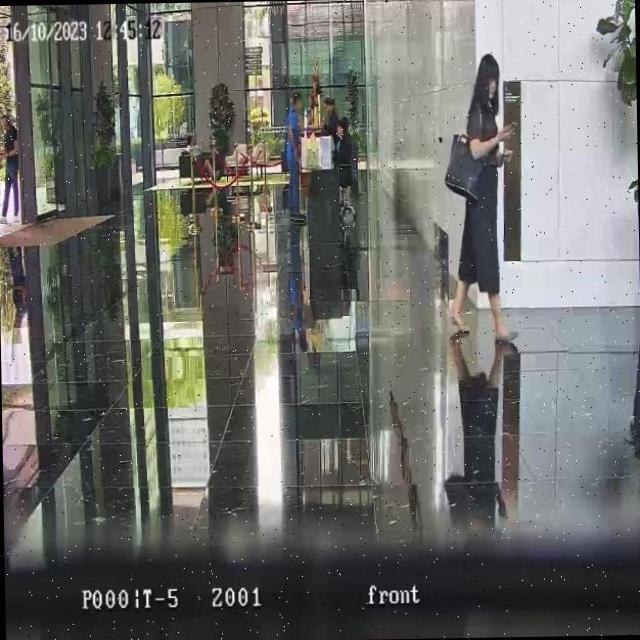person: (442, 52, 518, 344), (284, 90, 303, 214), (0, 113, 20, 224), (336, 118, 358, 207), (186, 132, 222, 184), (321, 95, 339, 148)
